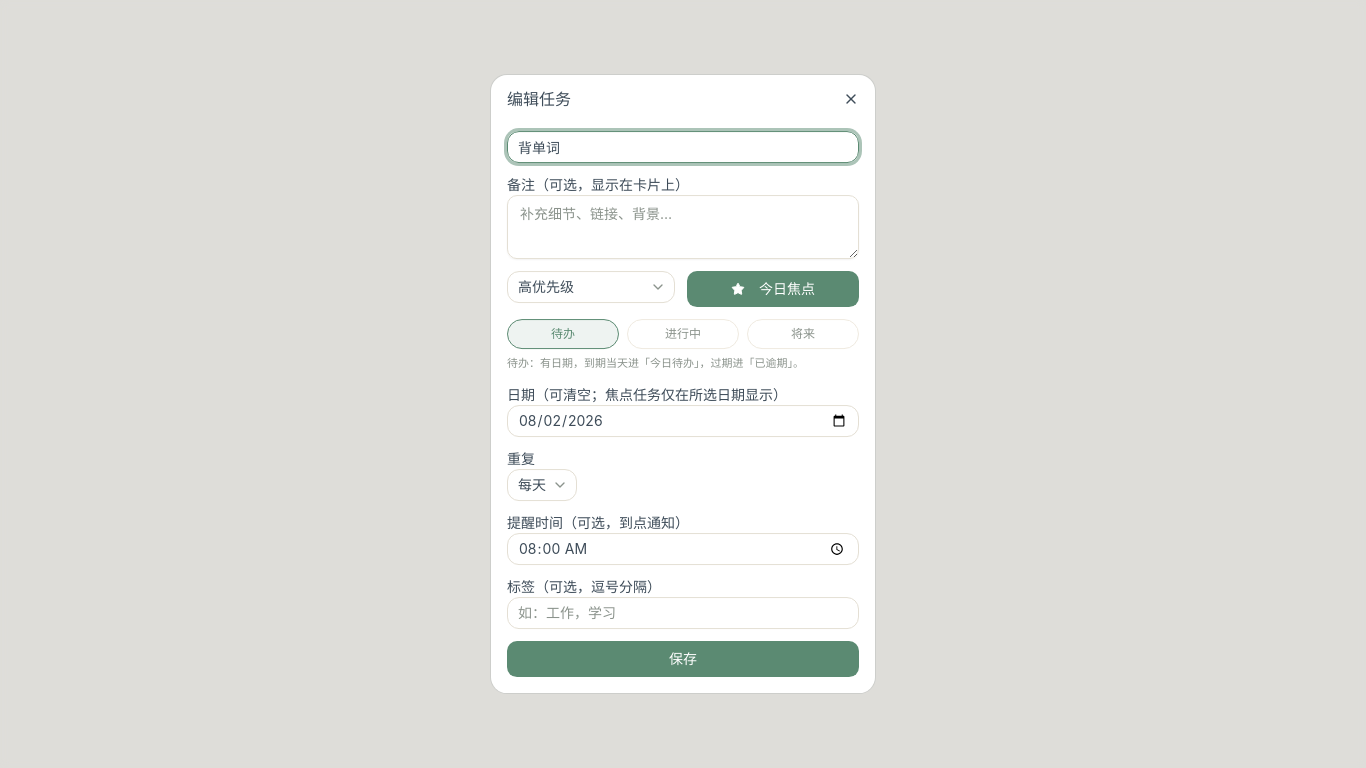
Test: TaskDialog 状态语义（v1.31） › 三态语义写在弹窗里（用户上一轮说「没搞懂」，语义不能只活在代码注释里）
Expected: the text "待办：有日期，到期当天进「今日待办」，过期进「已逾期」。" is shown, [507, 356, 804, 370]
Click the button "进行中" at (683, 334), box [627, 319, 739, 349]
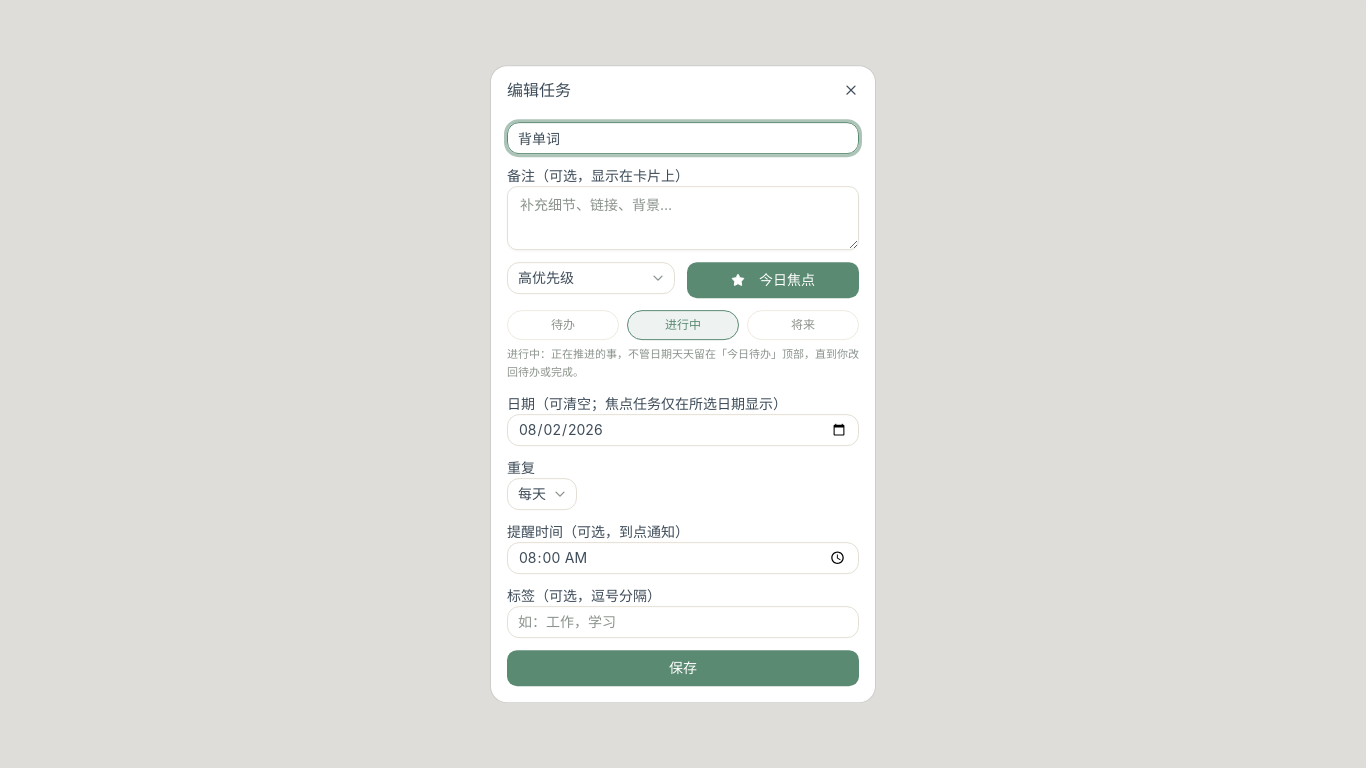
Expected: the text "进行中：正在推进的事，不管日期天天留在「今日待办」顶部，直到你改回待办或完成。" is shown, [507, 346, 859, 382]
Click the button "将来" at (803, 325), box [747, 310, 859, 340]
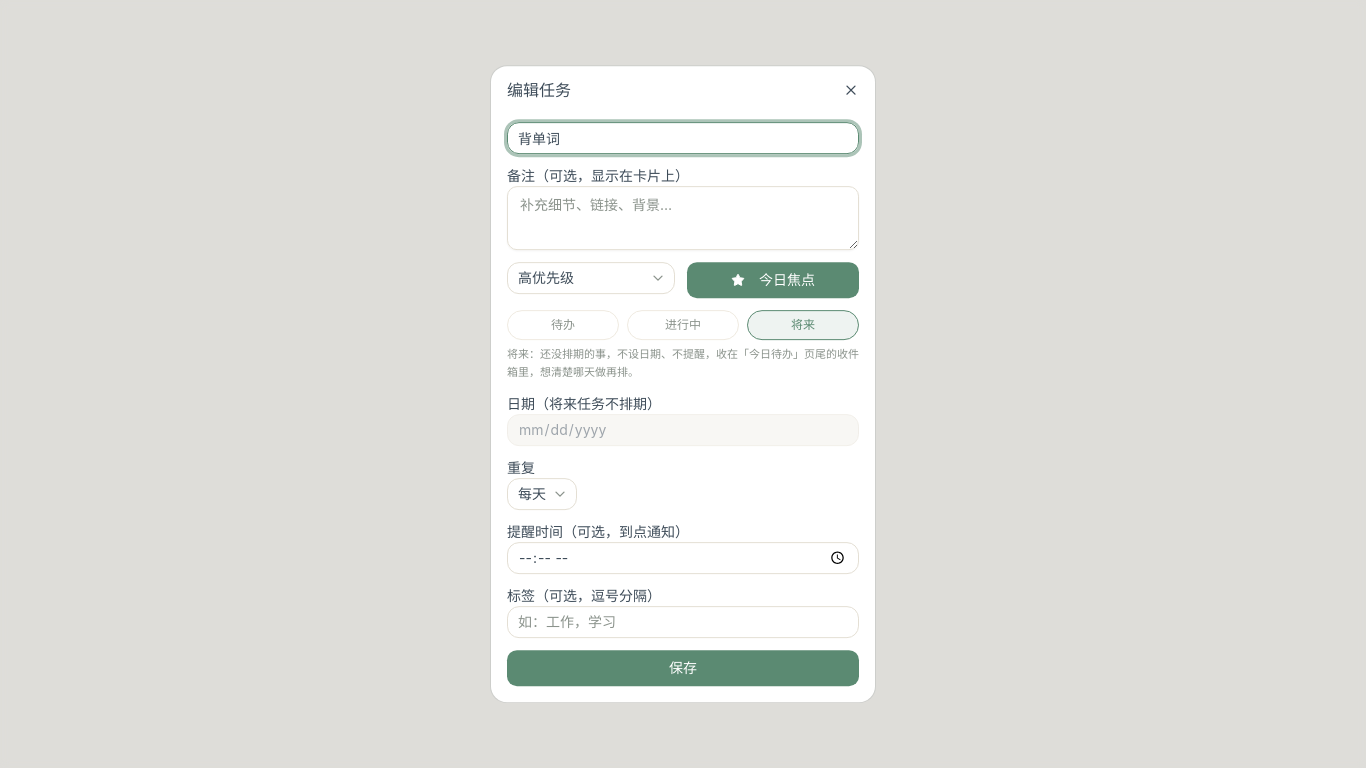
Expected: the text "将来：还没排期的事，不设日期、不提醒，收在「今日待办」页尾的收件箱里，想清楚哪天做再排。" is shown, [507, 346, 859, 382]
